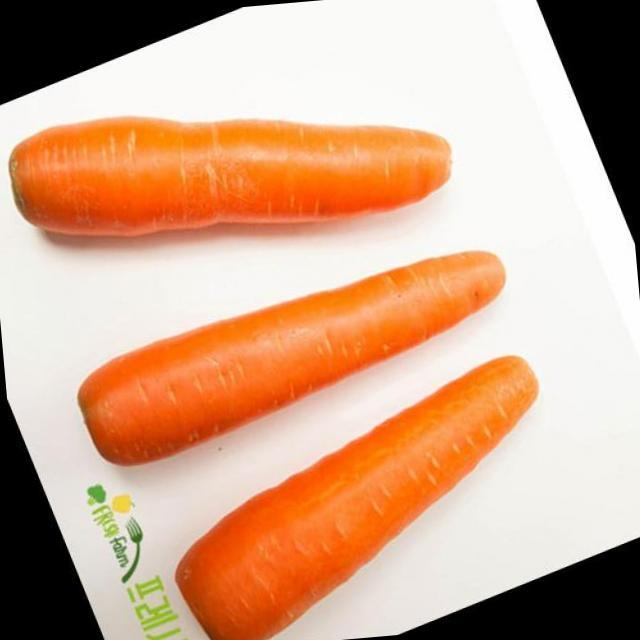carrot: (0, 0, 485, 351), (128, 333, 606, 640), (48, 200, 540, 492)
